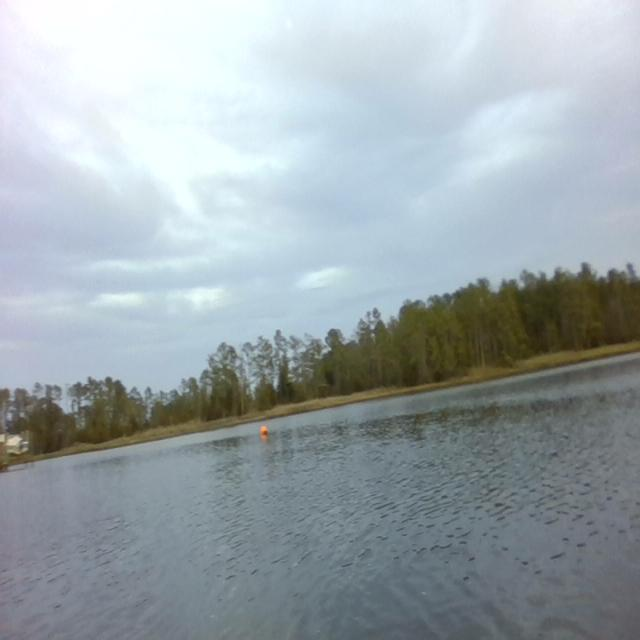Buoy: (260, 423, 268, 439)
